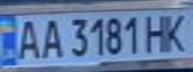1: (121, 12, 142, 54), (87, 15, 106, 56)
3: (66, 15, 90, 57)
8: (103, 13, 124, 55)
A: (12, 17, 42, 61), (36, 16, 66, 60)
H: (142, 11, 172, 53)
K: (160, 10, 193, 53)
